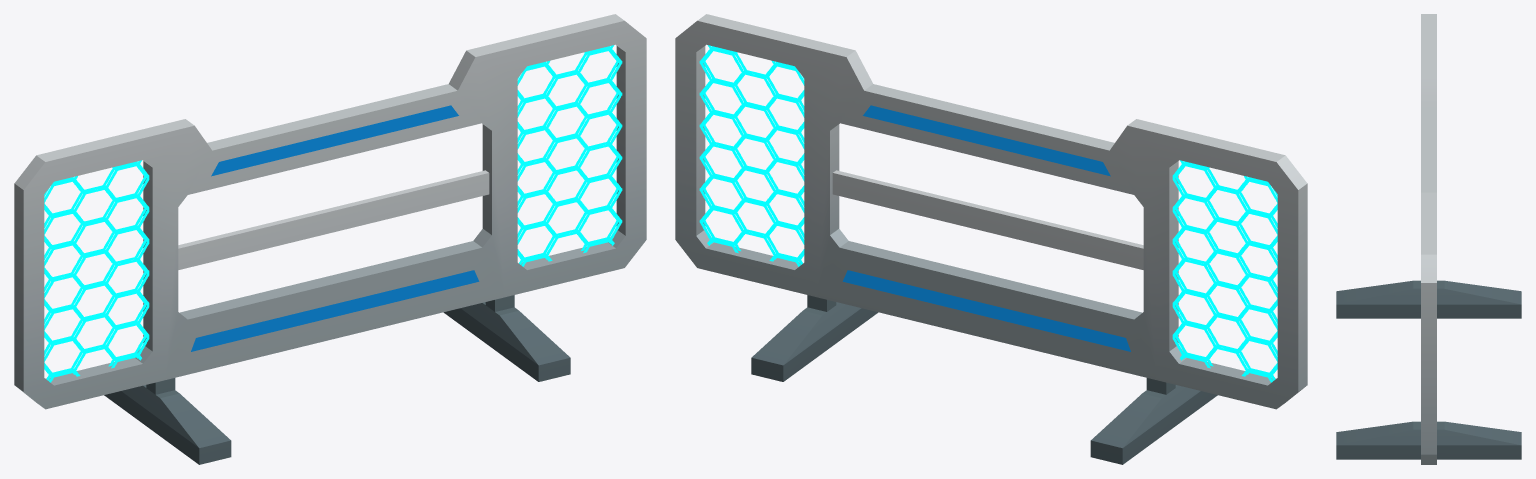
File: Barriaer_009.glb
3 renders of one model, left to right at view 1: azimuth 30°, elevation 25°; view 2: azimuth 150°, elevation 25°; view 3: azimuth 270°, elevation 25°, orthographic. The views are drawn at different scales.
Visible parts, largest first — view 1: Barriaer_009; view 2: Barriaer_009; view 3: Barriaer_009.
Boxes of the visible parts, box(x1,y1,x2,y2) form: Barriaer_009: box(14, 14, 646, 464); Barriaer_009: box(675, 14, 1307, 464); Barriaer_009: box(1336, 14, 1521, 464).
Size of the model in its own units: 1.95 by 0.873 by 0.5905.
3 materials, 3 textured.
